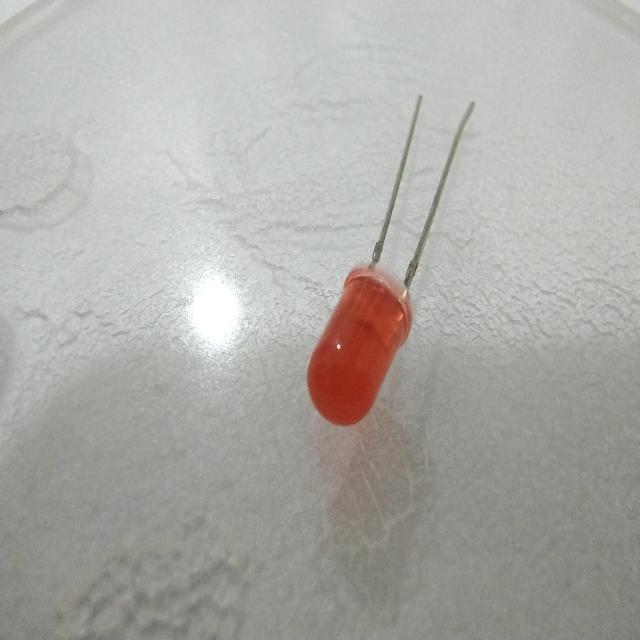red_led: (299, 252, 424, 444)
